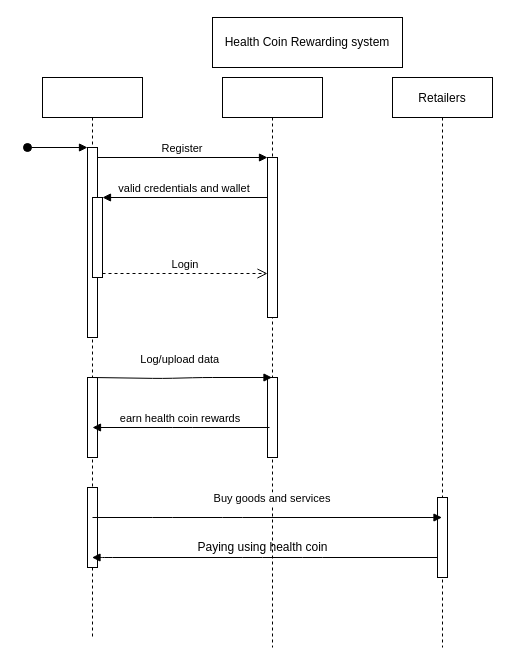
Image size: 510x665. Some labels were removed from this diagram. The box of each missing label's shape, as (x1, y1, x2, y2) in pixels:
DApp: (222, 76, 322, 648)
Participants: (42, 76, 142, 638)
